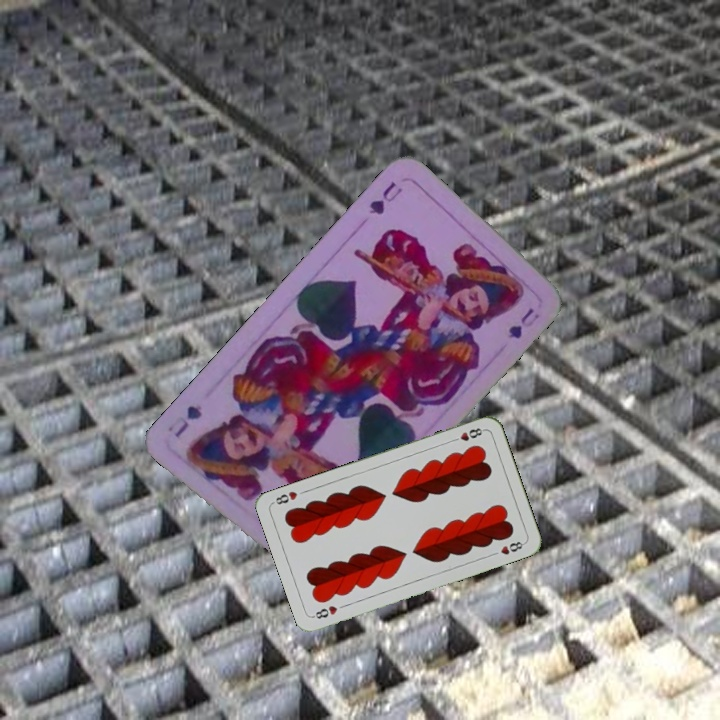GU: (365, 177, 405, 217)
H8: (447, 424, 487, 445), (309, 601, 340, 622)
